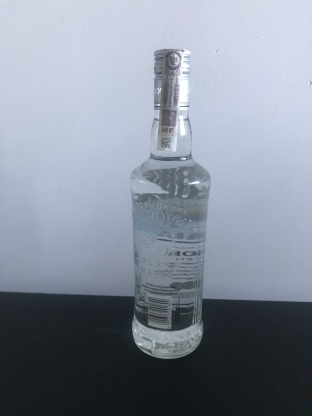nakretka: (151, 45, 193, 113)
